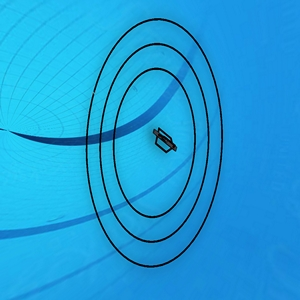circle: (84, 17, 223, 271)
submarine: (152, 126, 176, 152)
